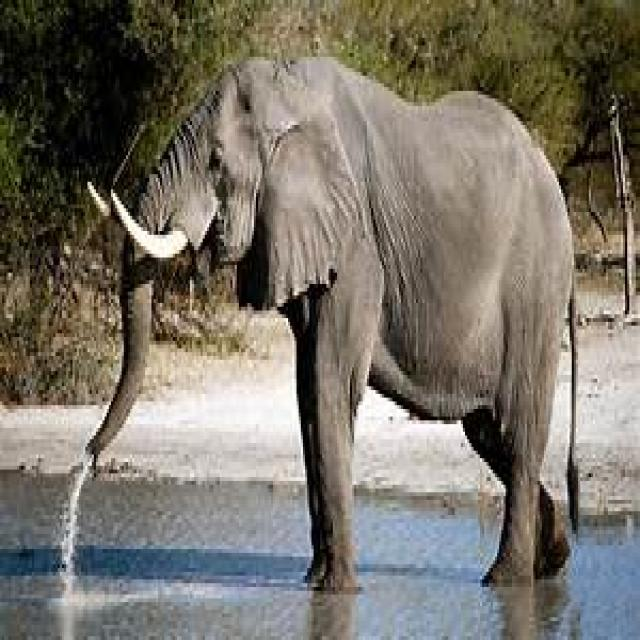elephant: (79, 57, 576, 640)
